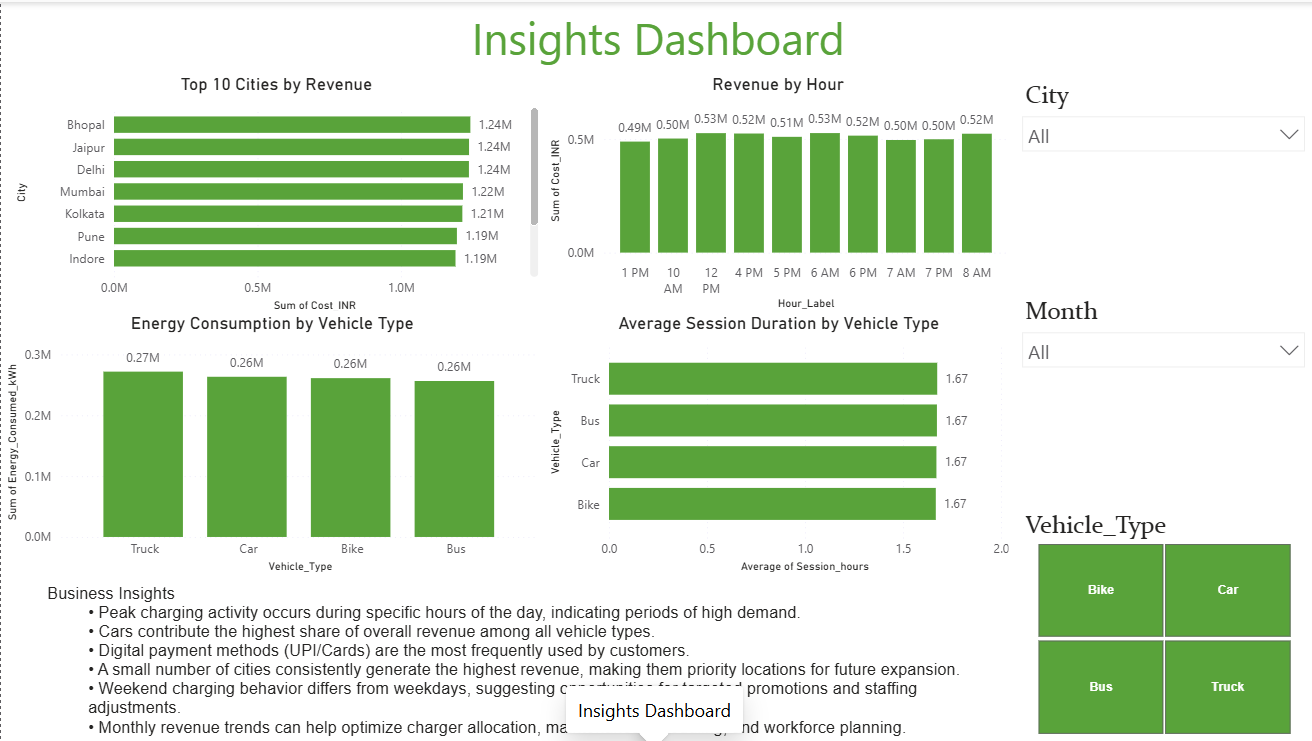

What the dashboard file says about the page in this screenshot:
{"tool":"powerbi","page":{"name":"Insights Dashboard","canvas":[1280,720],"ordinal":2},"visuals":[{"type":"clusteredBarChart","title":"Top 10 Cities by Revenue","fields":{"Category":["EV_Charging_Final.City"],"Y":["Sum(EV_Charging_Final.Cost_INR)"]},"box":[9.5,69.5,519.5,235.3],"z":0},{"type":"clusteredColumnChart","title":"Revenue by Hour","fields":{"Y":["Sum(EV_Charging_Final.Cost_INR)"],"Category":["EV_Charging_Final.Hour_Label"]},"box":[529,69.5,456.3,233.7],"z":1},{"type":"clusteredColumnChart","title":"Energy Consumption by Vehicle Type","fields":{"Category":["EV_Charging_Final.Vehicle_Type"],"Y":["Sum(EV_Charging_Final.Energy_Consumed_kWh)"]},"box":[0,303.2,529,257.4],"z":2},{"type":"barChart","title":"Average Session Duration by Vehicle Type","fields":{"Category":["EV_Charging_Final.Vehicle_Type"],"Y":["Avg(EV_Charging_Final.Session_hours)"]},"box":[529,303.2,457.9,257.4],"z":3},{"type":"textbox","box":[0,560.5,986.9,159.5],"z":4},{"type":"slicer","fields":{"Values":["EV_Charging_Final.City"]},"box":[985.3,69.5,295.3,211.6],"z":5},{"type":"slicer","fields":{"Values":["EV_Charging_Final.Month"]},"box":[985.3,281.1,295.3,208.4],"z":6},{"type":"slicer","fields":{"Values":["EV_Charging_Final.Vehicle_Type"]},"box":[985.3,489.5,295.3,230.5],"z":7},{"type":"textbox","box":[0,0,1280.5,69.5],"z":8}]}

Visuals, with their boxes in screenshot pixels (x1, y1, x2, y2), scaled from the page's 1280x720 canvas onto the 1312x741 screenshot:
"Top 10 Cities by Revenue" clusteredBarChart: x1=10, y1=72, x2=542, y2=314
"Revenue by Hour" clusteredColumnChart: x1=542, y1=72, x2=1010, y2=312
"Energy Consumption by Vehicle Type" clusteredColumnChart: x1=0, y1=312, x2=542, y2=577
"Average Session Duration by Vehicle Type" barChart: x1=542, y1=312, x2=1012, y2=577
textbox: x1=0, y1=577, x2=1012, y2=740
slicer - EV_Charging_Final.City: x1=1010, y1=72, x2=1311, y2=289
slicer - EV_Charging_Final.Month: x1=1010, y1=289, x2=1311, y2=504
slicer - EV_Charging_Final.Vehicle_Type: x1=1010, y1=504, x2=1311, y2=740
textbox: x1=0, y1=0, x2=1311, y2=72
